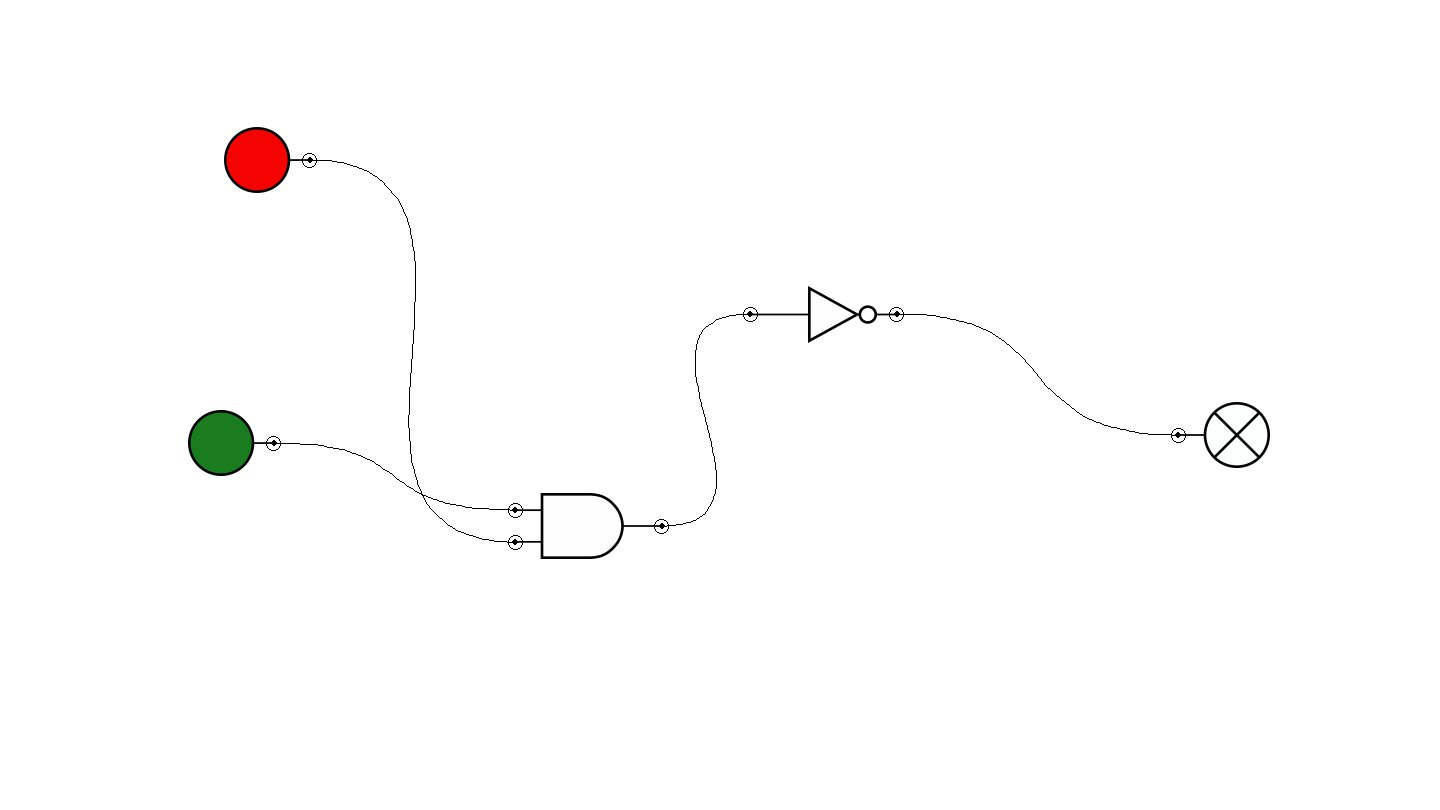and: (508, 493, 669, 559)
bulb: (1171, 402, 1270, 468)
not: (743, 286, 904, 343)
switch_False: (224, 127, 317, 193)
switch_True: (188, 410, 281, 476)
